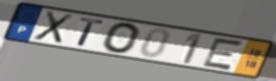0: (137, 27, 174, 60)
1: (182, 32, 204, 66)
E: (200, 36, 247, 72)
O: (100, 21, 143, 55)
T: (75, 16, 106, 48)
X: (31, 9, 77, 45)
